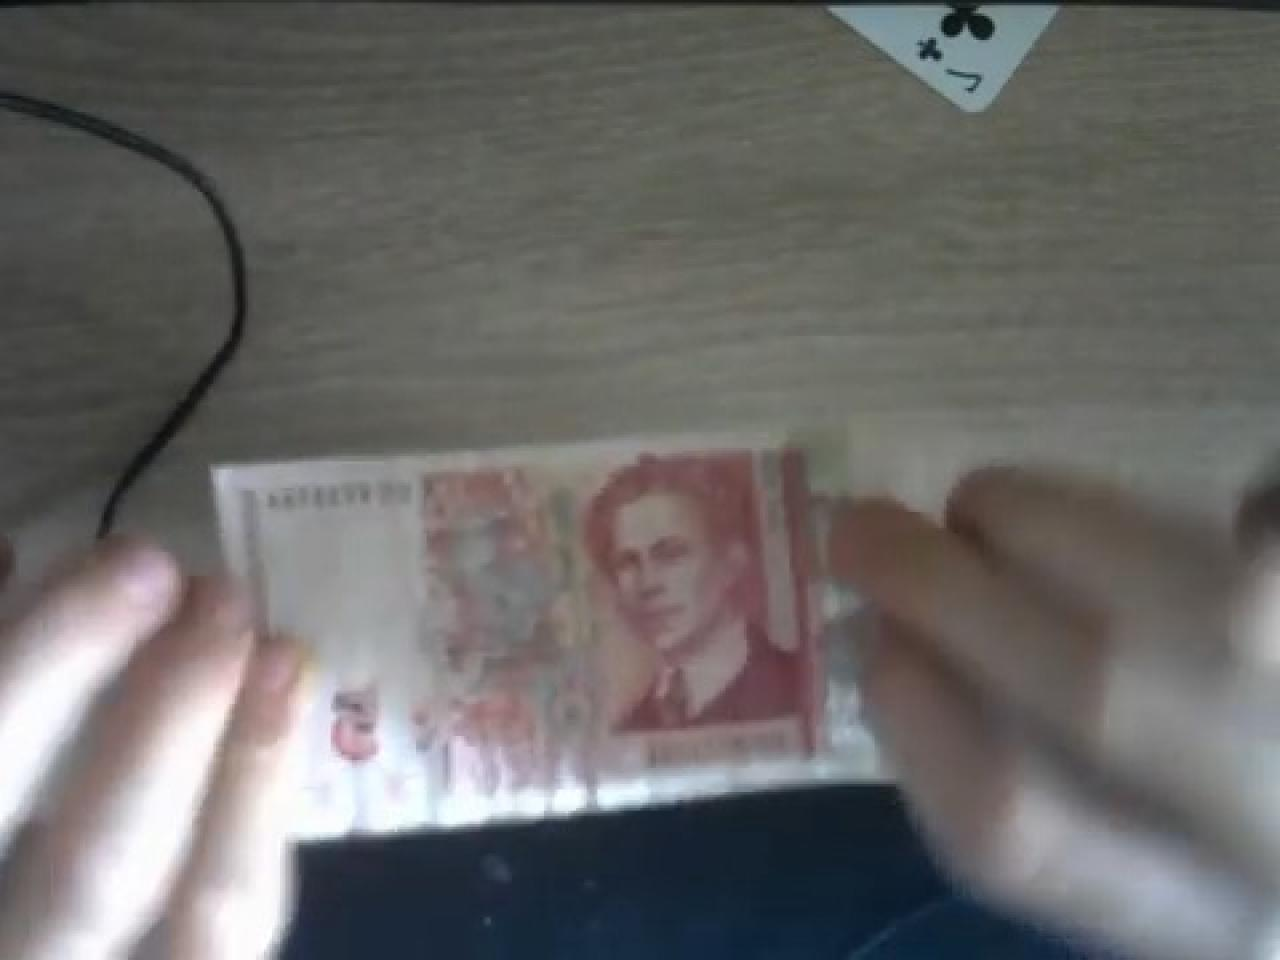5leva: (579, 451, 771, 723)
